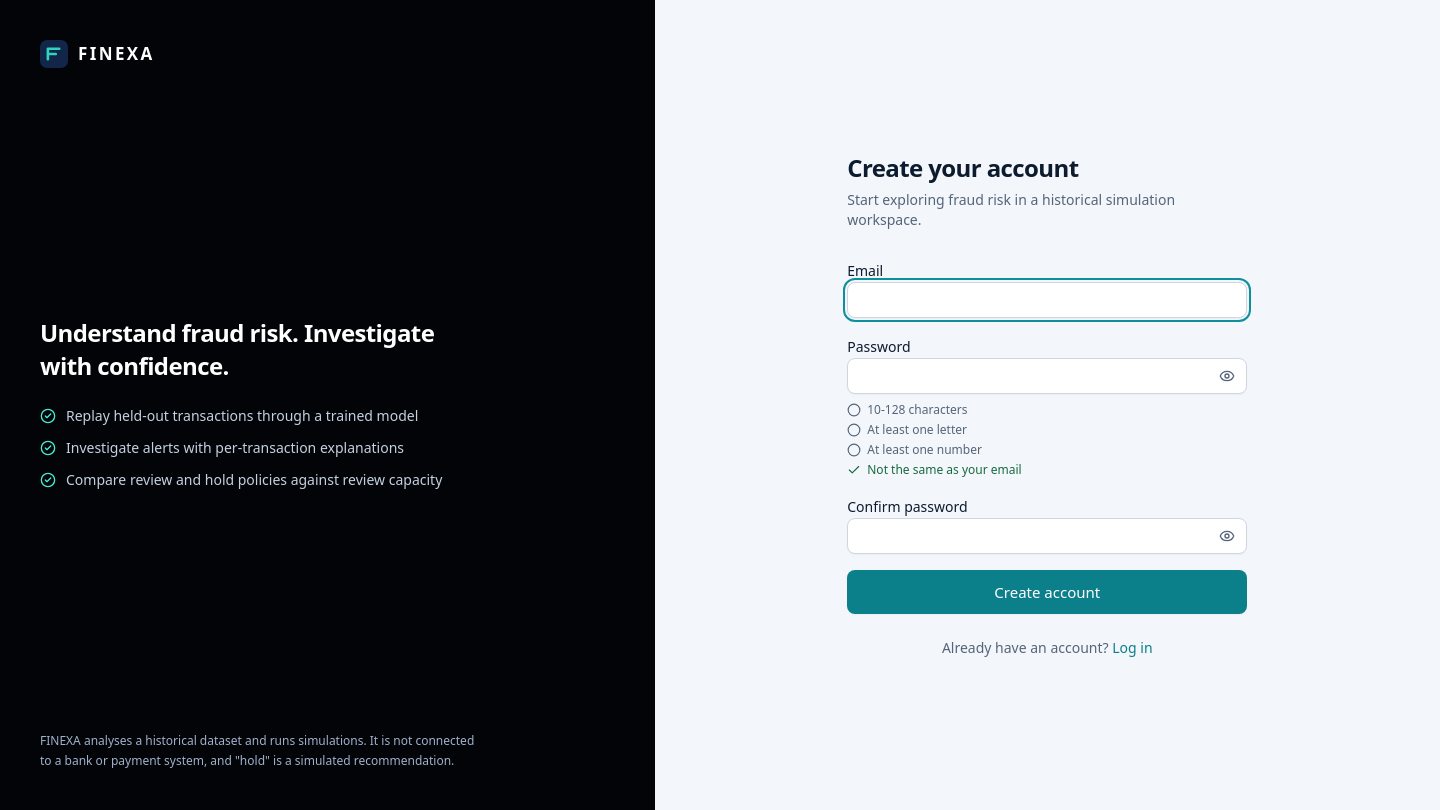
Test case: signup form › shows server-side password validation on the password field
In the field labelled "Email": (1047,300) [847, 282, 1247, 318], type "ana@example.com"
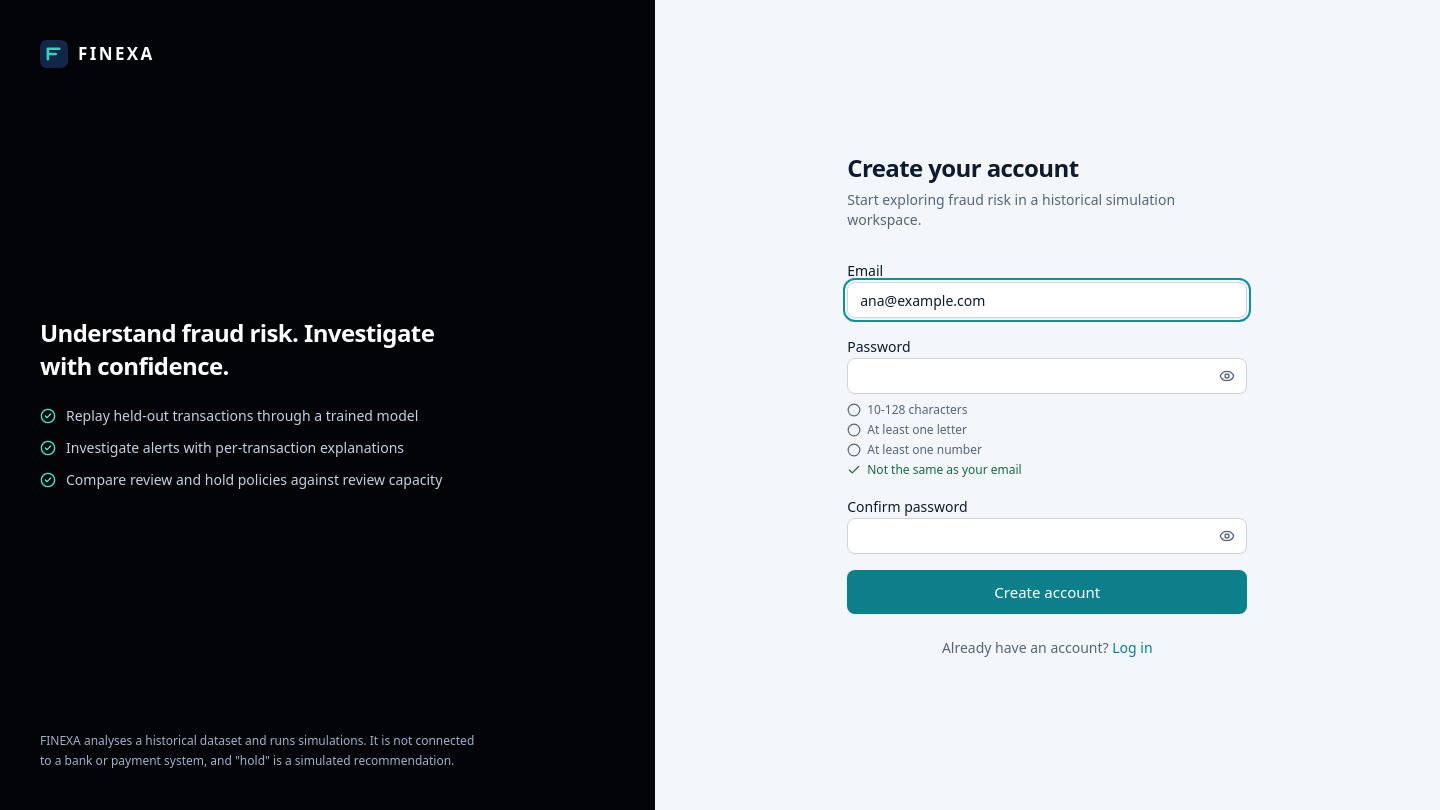
In the password field labelled "Password": (1047,376) [847, 358, 1247, 394], type "correct horse 42"
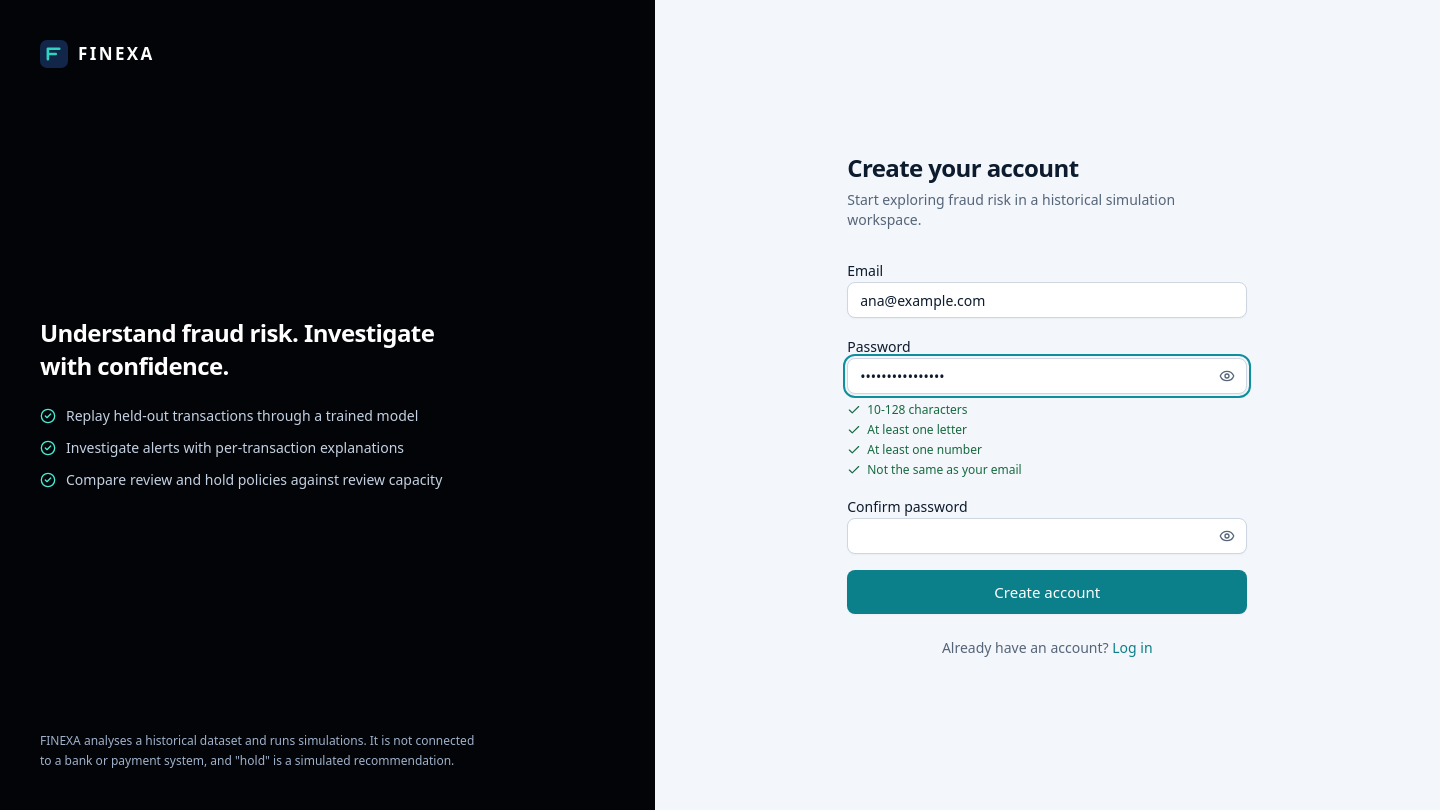
In the password field labelled "Confirm password": (1047,536) [847, 518, 1247, 554], type "correct horse 42"
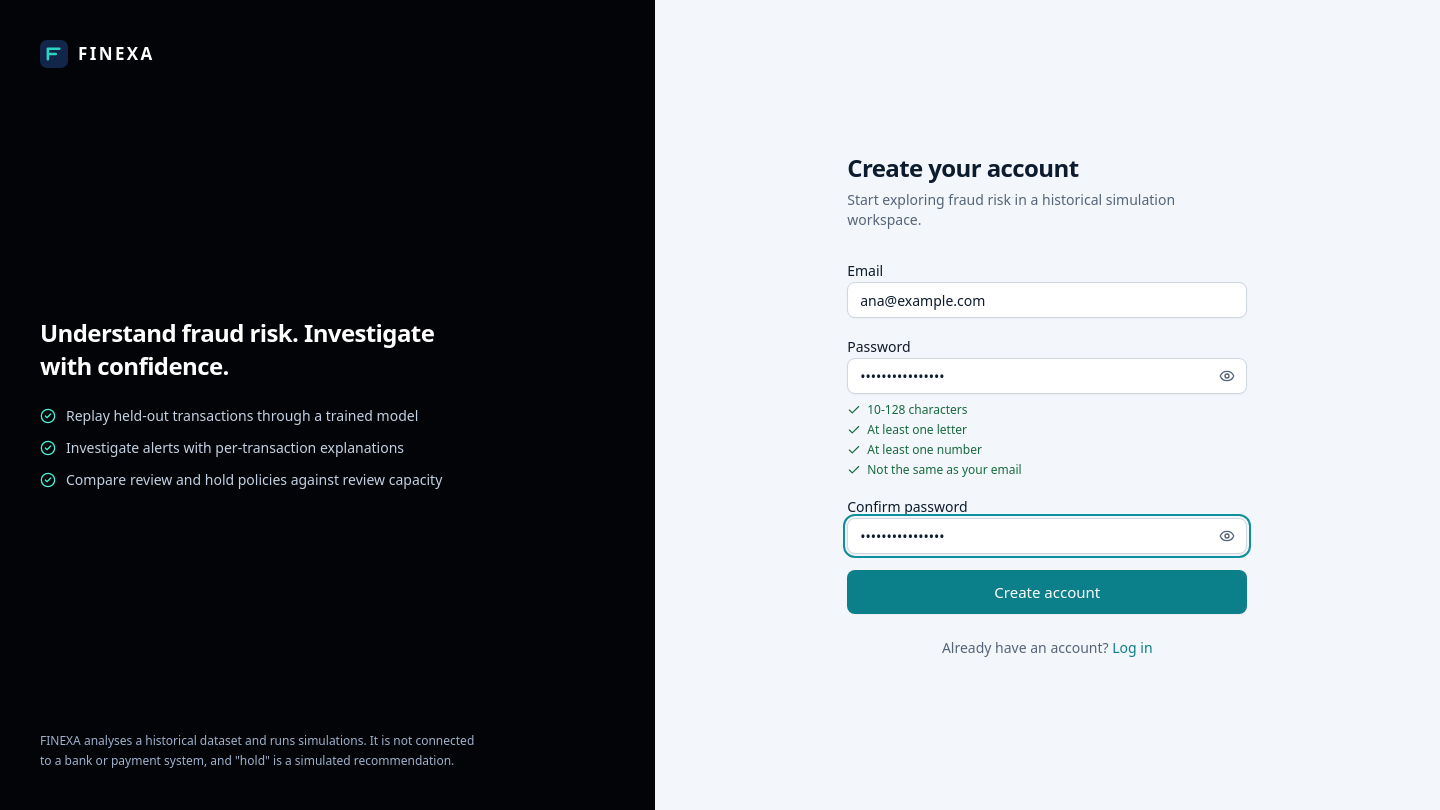
Click the button "Create account": (1047,592) [847, 570, 1247, 614]
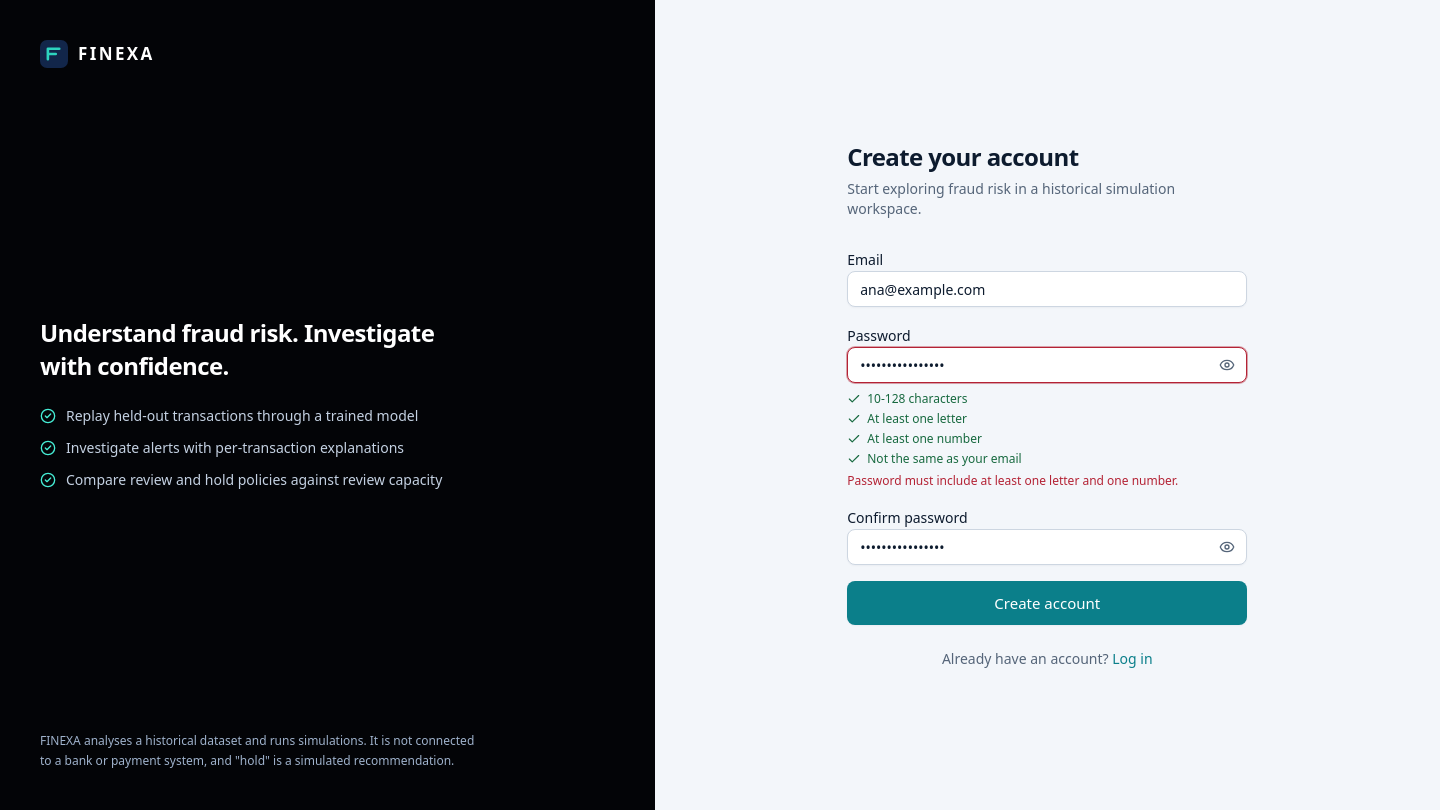
Now the text "Password must include at least one letter and one number." is shown, box [847, 472, 1178, 489]
